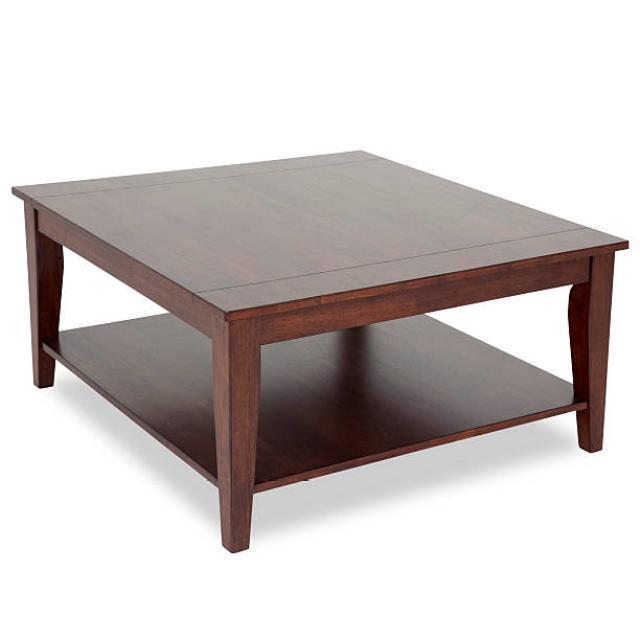table: (11, 147, 630, 552)
